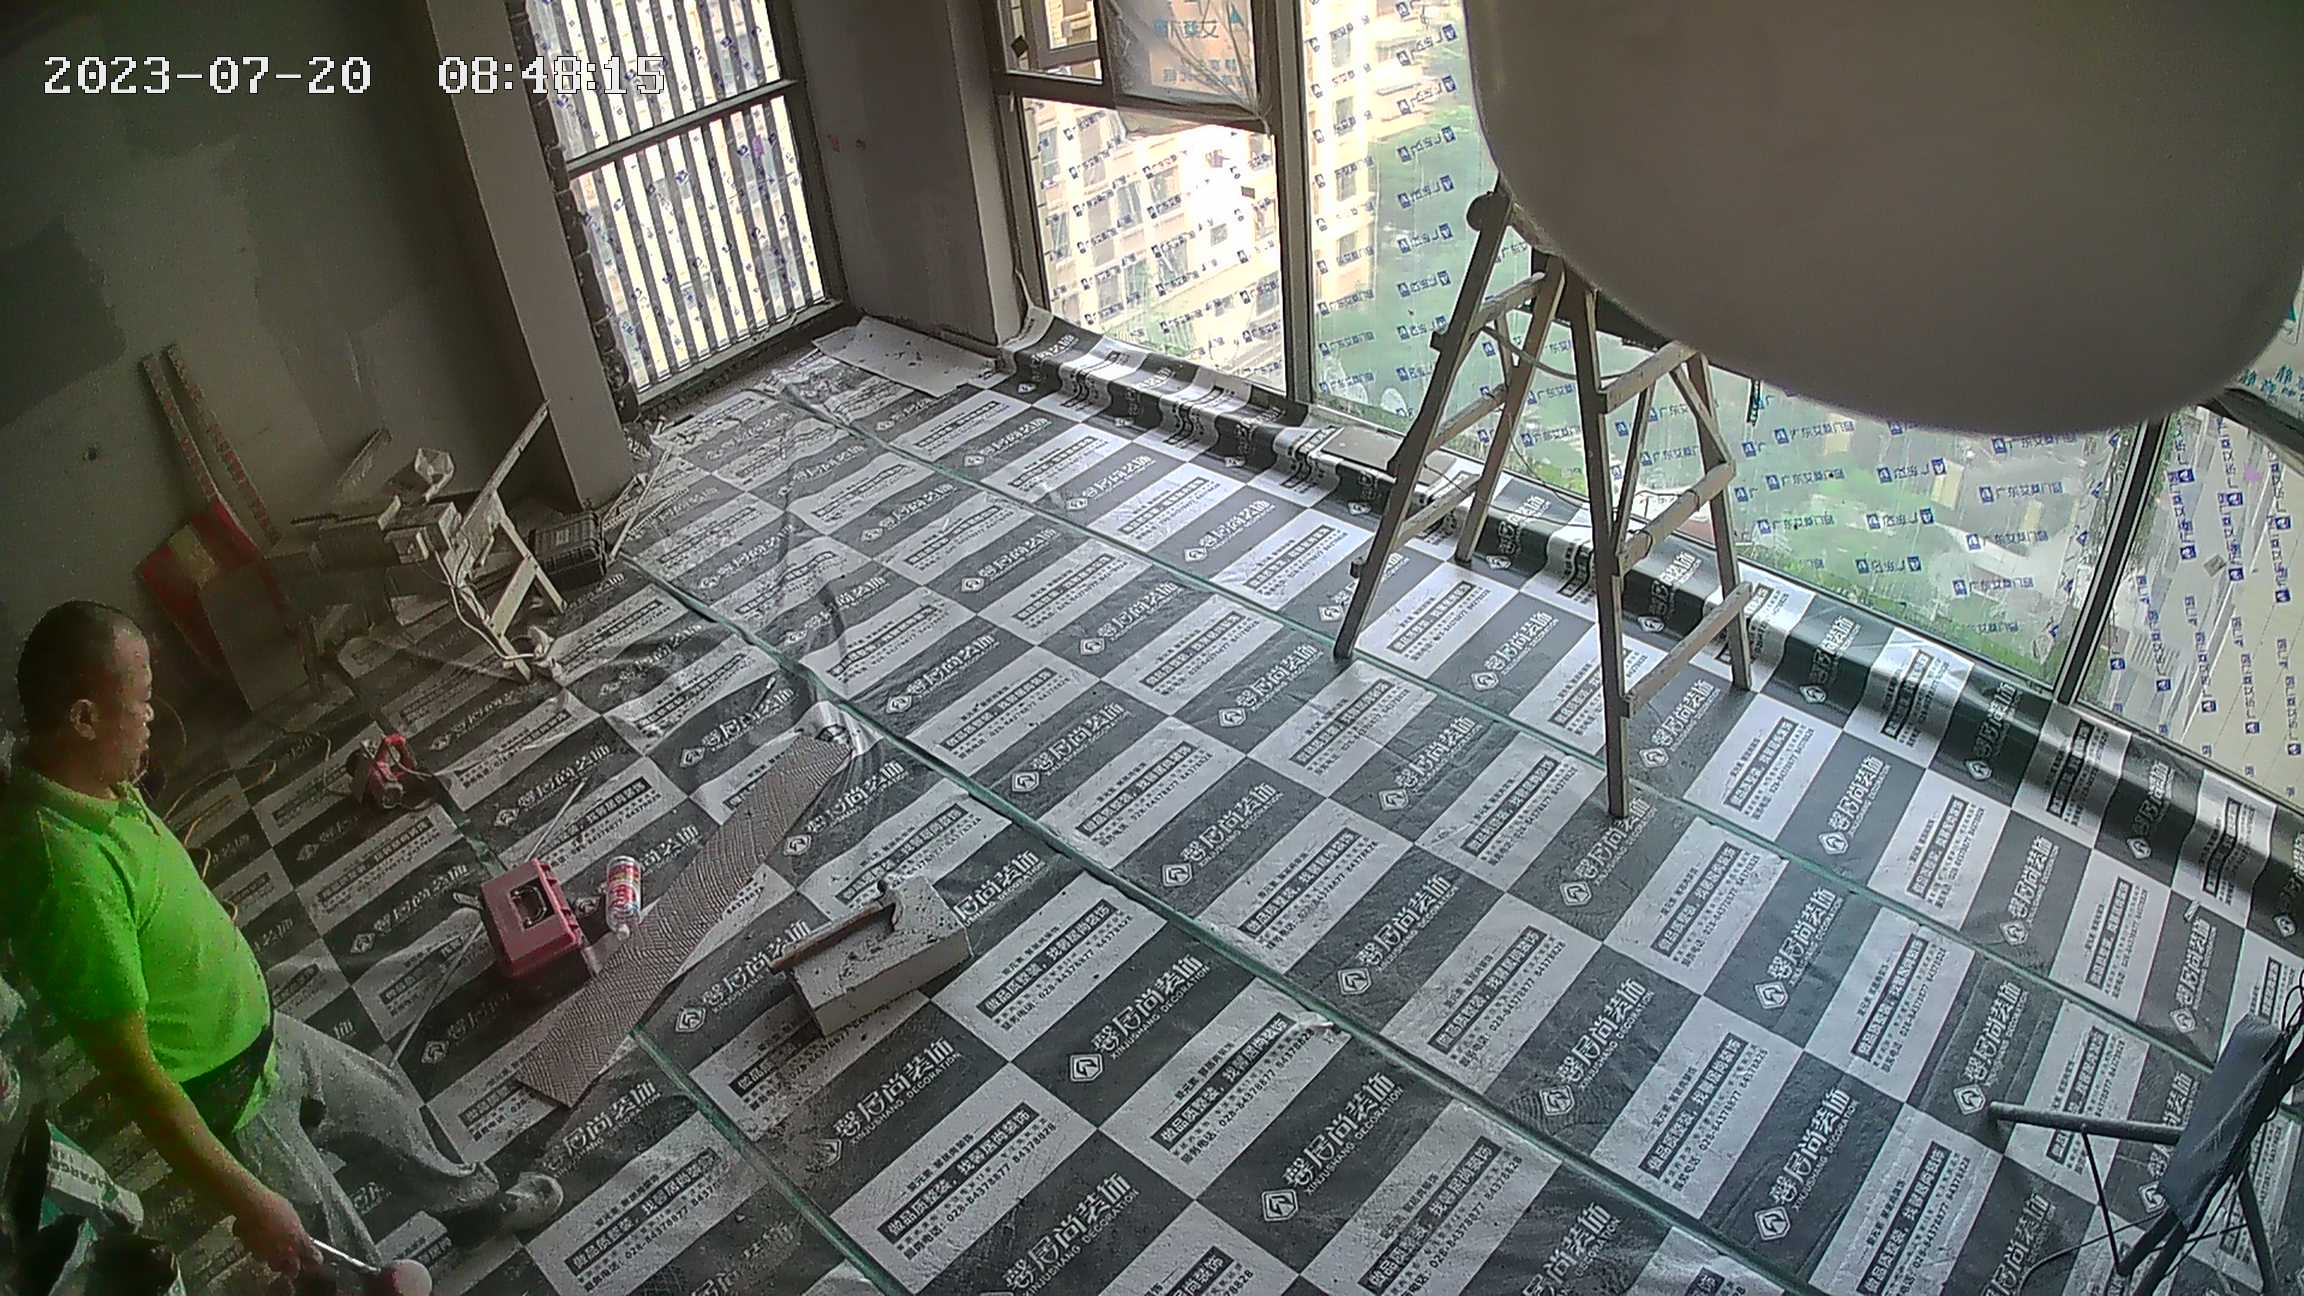people: (1, 595, 572, 1290)
window: (1026, 1, 2304, 714), (523, 8, 818, 361)
